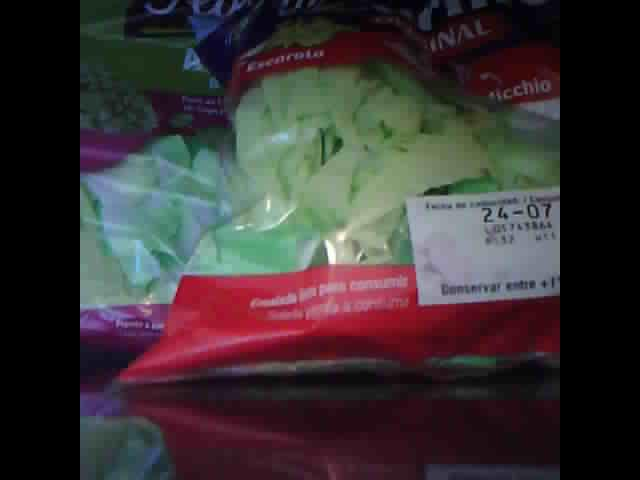florette: (111, 4, 560, 386), (81, 1, 257, 359)
